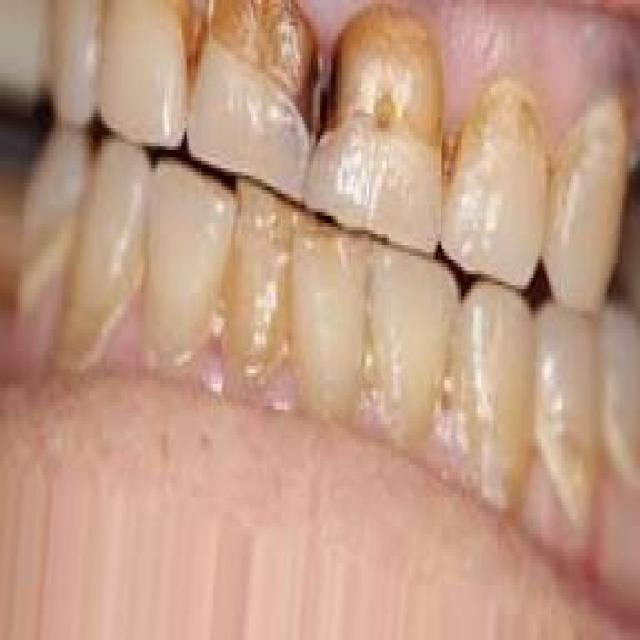caries: (316, 0, 452, 171), (199, 0, 320, 154)
